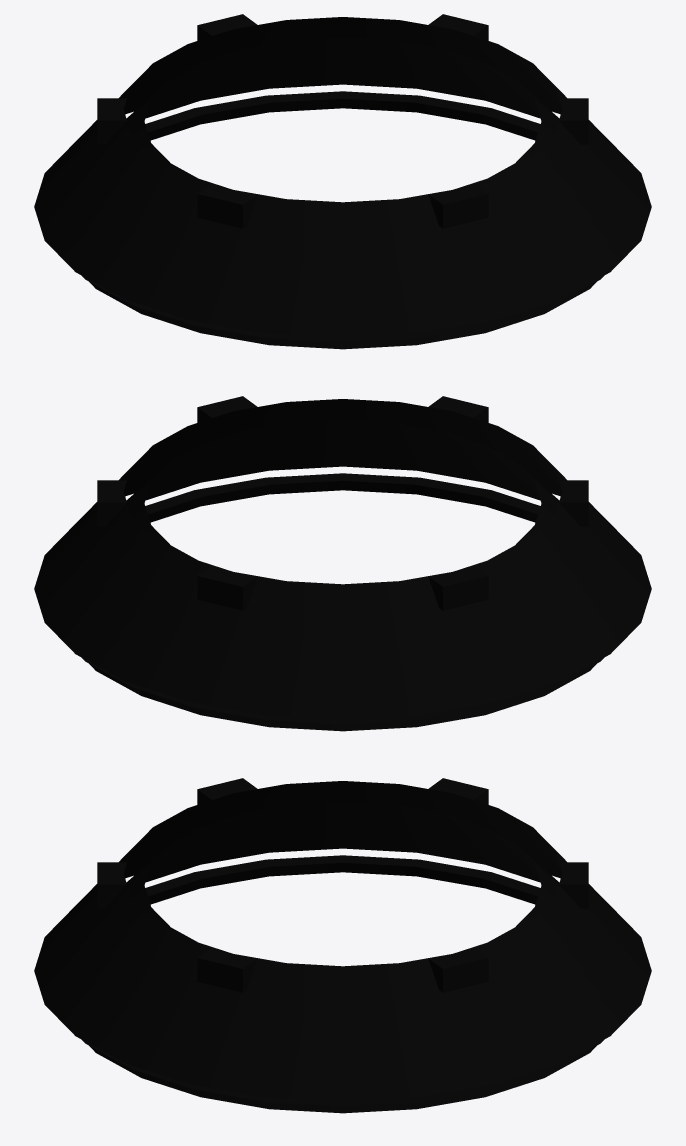
Rendered from hamal_aeroshell_s1p5_s1_1.obj.
The picture shows the model from 3 angles, top to bottom: view 1: azimuth 30°, elevation 25°; view 2: azimuth 150°, elevation 25°; view 3: azimuth 270°, elevation 25°; orthographic projection.
Visible parts, largest first — view 1: 2; view 2: 2; view 3: 2.
Part boxes in pixels (x1,y1,x2,y2): 2: (34, 14, 651, 349); 2: (34, 396, 651, 731); 2: (34, 778, 651, 1113).
Size of the model in its own units: 1.88 by 0.375 by 1.88.
